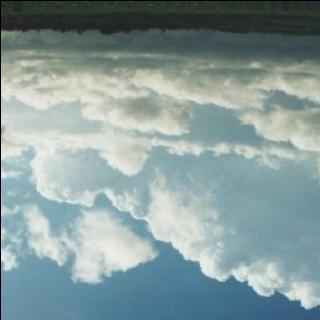Stratus: (0, 36, 320, 320)
